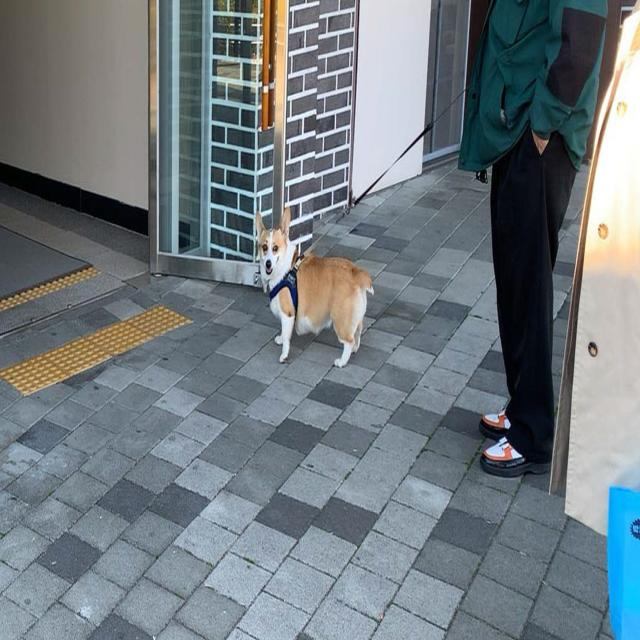Leashed_Dog: (256, 50, 525, 368)
